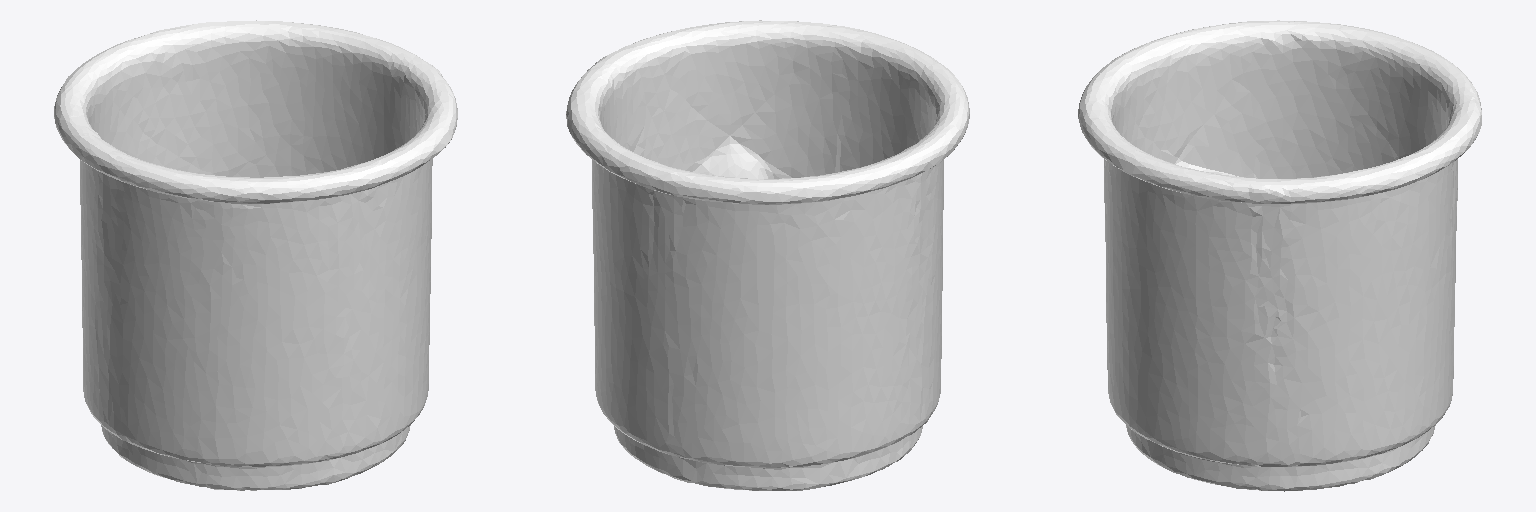
robot.urdf — 065-f_cups:
<?xml version="1.0" ?>
<robot name="065-f_cups">
    <link name="baseLink">
        <contact>
        <friction_anchor/>
        <lateral_friction value="1.5"/>
        <rolling_friction value="0.1"/>
        <spinning_friction value="0.1"/>
        <contact_cfm value="1e-5"/>
        <contact_erp value="0.8"/>
        </contact>
        <visual>
            <origin rpy="0 0 0" xyz="0 0 0"/>
            <geometry>
                <mesh filename="assets/objects/065-f_cups/meshes/065-f_cups_textured.obj" scale="1 1 1"/>
            </geometry>
            <material name="white">
                <color rgba="1 1 1 1"/>
            </material>
        </visual>
        <collision>
            <origin rpy="0 0 0" xyz="0 0 0"/>
            <geometry>
                <mesh filename="assets/objects/065-f_cups/meshes/065-f_cups_textured.obj" scale="1 1 1"/>
            </geometry>
        </collision>
        <inertial>
            <origin rpy="0 0 0" xyz="0 0 0"/>
            <mass value="1.0"/>
            <inertia ixx="0.1" ixy="0" ixz="0" iyy="0.1" iyz="0" izz="0.1"/>
        </inertial>
    </link>
</robot>

--- Render facts (derived) ---
3 views of the same robot in one strip: view 1: azimuth 30°, elevation 25°; view 2: azimuth 150°, elevation 25°; view 3: azimuth 270°, elevation 25° (orthographic).
Robot: 065-f_cups — 1 links, 0 joints (none); root link baseLink; default pose: all joints at 0.
Visible links, largest first — view 1: baseLink; view 2: baseLink; view 3: baseLink.
Link boxes in pixels (x1,y1,x2,y2): baseLink: (54,20,457,490); baseLink: (566,20,969,490); baseLink: (1078,20,1481,491).
Size in the robot's own frame: 0.0807 by 0.0809 by 0.0722 metres.
Meshes: 1 distinct files referenced, 1 mesh visuals loaded (1 OBJ).
